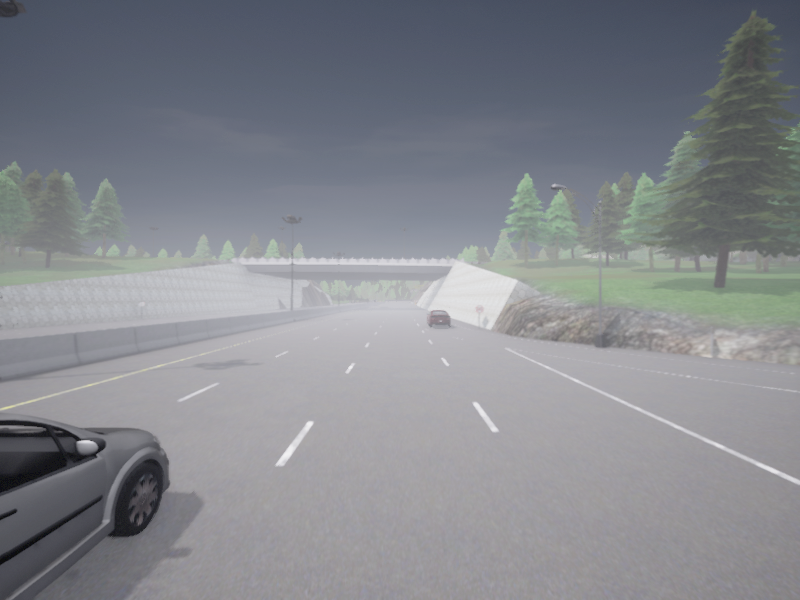vehicle: (0, 413, 169, 599), (426, 310, 450, 326)
